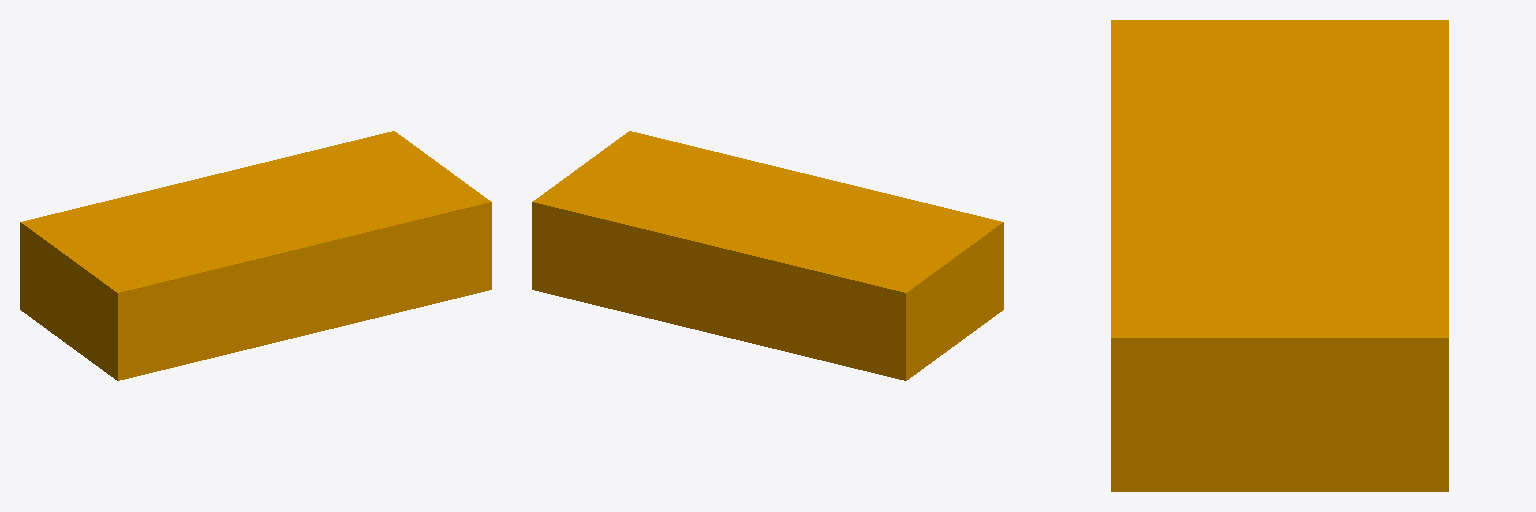
URDF robot description (quad12):
<?xml version="1.0"?>
<!--
  quad12 URDF for PyBullet. Same 12-DOF topology and link geometry as
  quad12.xml (MuJoCo) so the SAME policy faces the same robot in both sims.
  Joint order matches configs/robot/quad12.yaml.
-->
<robot name="quad12">

  <!-- ============================== trunk ============================== -->
  <link name="trunk">
    <inertial>
      <origin xyz="0 0 0"/>
      <mass value="6.0"/>
      <inertia ixx="0.05" iyy="0.10" izz="0.12" ixy="0" ixz="0" iyz="0"/>
    </inertial>
    <collision>
      <geometry><box size="0.40 0.18 0.09"/></geometry>
    </collision>
    <visual>
      <geometry><box size="0.40 0.18 0.09"/></geometry>
    </visual>
  </link>

  <!-- Macro-free explicit legs. Pattern per leg:
       <hip_origin> hip(axis x) -> hip_link
       <0,±0.06,0>  thigh(axis y) -> thigh_link (capsule down 0.18)
       <0,0,-0.18>  calf(axis y) -> calf_link (capsule down 0.18 + foot sphere) -->

  <!-- ============================== FL ============================== -->
  <link name="FL_hip">
    <inertial><mass value="0.6"/><inertia ixx="0.001" iyy="0.001" izz="0.001" ixy="0" ixz="0" iyz="0"/></inertial>
    <collision><origin xyz="0 0.03 0"/><geometry><cylinder radius="0.025" length="0.06"/></geometry><origin rpy="1.5708 0 0"/></collision>
  </link>
  <link name="FL_thigh">
    <inertial><origin xyz="0 0 -0.09"/><mass value="0.9"/><inertia ixx="0.003" iyy="0.003" izz="0.0005" ixy="0" ixz="0" iyz="0"/></inertial>
    <collision><origin xyz="0 0 -0.09" rpy="0 0 0"/><geometry><cylinder radius="0.022" length="0.18"/></geometry></collision>
  </link>
  <link name="FL_calf">
    <inertial><origin xyz="0 0 -0.09"/><mass value="0.45"/><inertia ixx="0.002" iyy="0.002" izz="0.0003" ixy="0" ixz="0" iyz="0"/></inertial>
    <collision><origin xyz="0 0 -0.09"/><geometry><cylinder radius="0.018" length="0.18"/></geometry></collision>
    <collision><origin xyz="0 0 -0.18"/><geometry><sphere radius="0.025"/></geometry></collision>
  </link>
  <joint name="FL_hip" type="revolute">
    <parent link="trunk"/><child link="FL_hip"/>
    <origin xyz="0.18 0.09 0"/><axis xyz="1 0 0"/>
    <limit lower="-3.14" upper="3.14" effort="40" velocity="30"/>
  </joint>
  <joint name="FL_thigh" type="revolute">
    <parent link="FL_hip"/><child link="FL_thigh"/>
    <origin xyz="0 0.06 0"/><axis xyz="0 1 0"/>
    <limit lower="-3.14" upper="3.14" effort="40" velocity="30"/>
  </joint>
  <joint name="FL_calf" type="revolute">
    <parent link="FL_thigh"/><child link="FL_calf"/>
    <origin xyz="0 0 -0.18"/><axis xyz="0 1 0"/>
    <limit lower="-3.14" upper="3.14" effort="40" velocity="30"/>
  </joint>

  <!-- ============================== FR ============================== -->
  <link name="FR_hip">
    <inertial><mass value="0.6"/><inertia ixx="0.001" iyy="0.001" izz="0.001" ixy="0" ixz="0" iyz="0"/></inertial>
    <collision><origin xyz="0 -0.03 0" rpy="1.5708 0 0"/><geometry><cylinder radius="0.025" length="0.06"/></geometry></collision>
  </link>
  <link name="FR_thigh">
    <inertial><origin xyz="0 0 -0.09"/><mass value="0.9"/><inertia ixx="0.003" iyy="0.003" izz="0.0005" ixy="0" ixz="0" iyz="0"/></inertial>
    <collision><origin xyz="0 0 -0.09"/><geometry><cylinder radius="0.022" length="0.18"/></geometry></collision>
  </link>
  <link name="FR_calf">
    <inertial><origin xyz="0 0 -0.09"/><mass value="0.45"/><inertia ixx="0.002" iyy="0.002" izz="0.0003" ixy="0" ixz="0" iyz="0"/></inertial>
    <collision><origin xyz="0 0 -0.09"/><geometry><cylinder radius="0.018" length="0.18"/></geometry></collision>
    <collision><origin xyz="0 0 -0.18"/><geometry><sphere radius="0.025"/></geometry></collision>
  </link>
  <joint name="FR_hip" type="revolute">
    <parent link="trunk"/><child link="FR_hip"/>
    <origin xyz="0.18 -0.09 0"/><axis xyz="1 0 0"/>
    <limit lower="-3.14" upper="3.14" effort="40" velocity="30"/>
  </joint>
  <joint name="FR_thigh" type="revolute">
    <parent link="FR_hip"/><child link="FR_thigh"/>
    <origin xyz="0 -0.06 0"/><axis xyz="0 1 0"/>
    <limit lower="-3.14" upper="3.14" effort="40" velocity="30"/>
  </joint>
  <joint name="FR_calf" type="revolute">
    <parent link="FR_thigh"/><child link="FR_calf"/>
    <origin xyz="0 0 -0.18"/><axis xyz="0 1 0"/>
    <limit lower="-3.14" upper="3.14" effort="40" velocity="30"/>
  </joint>

  <!-- ============================== RL ============================== -->
  <link name="RL_hip">
    <inertial><mass value="0.6"/><inertia ixx="0.001" iyy="0.001" izz="0.001" ixy="0" ixz="0" iyz="0"/></inertial>
    <collision><origin xyz="0 0.03 0" rpy="1.5708 0 0"/><geometry><cylinder radius="0.025" length="0.06"/></geometry></collision>
  </link>
  <link name="RL_thigh">
    <inertial><origin xyz="0 0 -0.09"/><mass value="0.9"/><inertia ixx="0.003" iyy="0.003" izz="0.0005" ixy="0" ixz="0" iyz="0"/></inertial>
    <collision><origin xyz="0 0 -0.09"/><geometry><cylinder radius="0.022" length="0.18"/></geometry></collision>
  </link>
  <link name="RL_calf">
    <inertial><origin xyz="0 0 -0.09"/><mass value="0.45"/><inertia ixx="0.002" iyy="0.002" izz="0.0003" ixy="0" ixz="0" iyz="0"/></inertial>
    <collision><origin xyz="0 0 -0.09"/><geometry><cylinder radius="0.018" length="0.18"/></geometry></collision>
    <collision><origin xyz="0 0 -0.18"/><geometry><sphere radius="0.025"/></geometry></collision>
  </link>
  <joint name="RL_hip" type="revolute">
    <parent link="trunk"/><child link="RL_hip"/>
    <origin xyz="-0.18 0.09 0"/><axis xyz="1 0 0"/>
    <limit lower="-3.14" upper="3.14" effort="40" velocity="30"/>
  </joint>
  <joint name="RL_thigh" type="revolute">
    <parent link="RL_hip"/><child link="RL_thigh"/>
    <origin xyz="0 0.06 0"/><axis xyz="0 1 0"/>
    <limit lower="-3.14" upper="3.14" effort="40" velocity="30"/>
  </joint>
  <joint name="RL_calf" type="revolute">
    <parent link="RL_thigh"/><child link="RL_calf"/>
    <origin xyz="0 0 -0.18"/><axis xyz="0 1 0"/>
    <limit lower="-3.14" upper="3.14" effort="40" velocity="30"/>
  </joint>

  <!-- ============================== RR ============================== -->
  <link name="RR_hip">
    <inertial><mass value="0.6"/><inertia ixx="0.001" iyy="0.001" izz="0.001" ixy="0" ixz="0" iyz="0"/></inertial>
    <collision><origin xyz="0 -0.03 0" rpy="1.5708 0 0"/><geometry><cylinder radius="0.025" length="0.06"/></geometry></collision>
  </link>
  <link name="RR_thigh">
    <inertial><origin xyz="0 0 -0.09"/><mass value="0.9"/><inertia ixx="0.003" iyy="0.003" izz="0.0005" ixy="0" ixz="0" iyz="0"/></inertial>
    <collision><origin xyz="0 0 -0.09"/><geometry><cylinder radius="0.022" length="0.18"/></geometry></collision>
  </link>
  <link name="RR_calf">
    <inertial><origin xyz="0 0 -0.09"/><mass value="0.45"/><inertia ixx="0.002" iyy="0.002" izz="0.0003" ixy="0" ixz="0" iyz="0"/></inertial>
    <collision><origin xyz="0 0 -0.09"/><geometry><cylinder radius="0.018" length="0.18"/></geometry></collision>
    <collision><origin xyz="0 0 -0.18"/><geometry><sphere radius="0.025"/></geometry></collision>
  </link>
  <joint name="RR_hip" type="revolute">
    <parent link="trunk"/><child link="RR_hip"/>
    <origin xyz="-0.18 -0.09 0"/><axis xyz="1 0 0"/>
    <limit lower="-3.14" upper="3.14" effort="40" velocity="30"/>
  </joint>
  <joint name="RR_thigh" type="revolute">
    <parent link="RR_hip"/><child link="RR_thigh"/>
    <origin xyz="0 -0.06 0"/><axis xyz="0 1 0"/>
    <limit lower="-3.14" upper="3.14" effort="40" velocity="30"/>
  </joint>
  <joint name="RR_calf" type="revolute">
    <parent link="RR_thigh"/><child link="RR_calf"/>
    <origin xyz="0 0 -0.18"/><axis xyz="0 1 0"/>
    <limit lower="-3.14" upper="3.14" effort="40" velocity="30"/>
  </joint>

</robot>

--- Facts derived from the render (not from the file) ---
The picture shows the robot from 3 angles, left to right: view 1: azimuth 30°, elevation 25°; view 2: azimuth 150°, elevation 25°; view 3: azimuth 270°, elevation 25°; orthographic projection.
Model quad12 with 13 links and 12 joints (12 revolute), rooted at trunk, posed all joints at 0.
Links seen in each view (by area): view 1: trunk; view 2: trunk; view 3: trunk.
Link boxes in pixels (x1,y1,x2,y2): trunk: [20, 131, 491, 380]; trunk: [532, 131, 1003, 380]; trunk: [1111, 20, 1448, 491].
Bounding box of the posed robot: 0.4 × 0.18 × 0.09 m (x, y, z).
Geometry: primitives only (box / cylinder / sphere), no mesh files.
